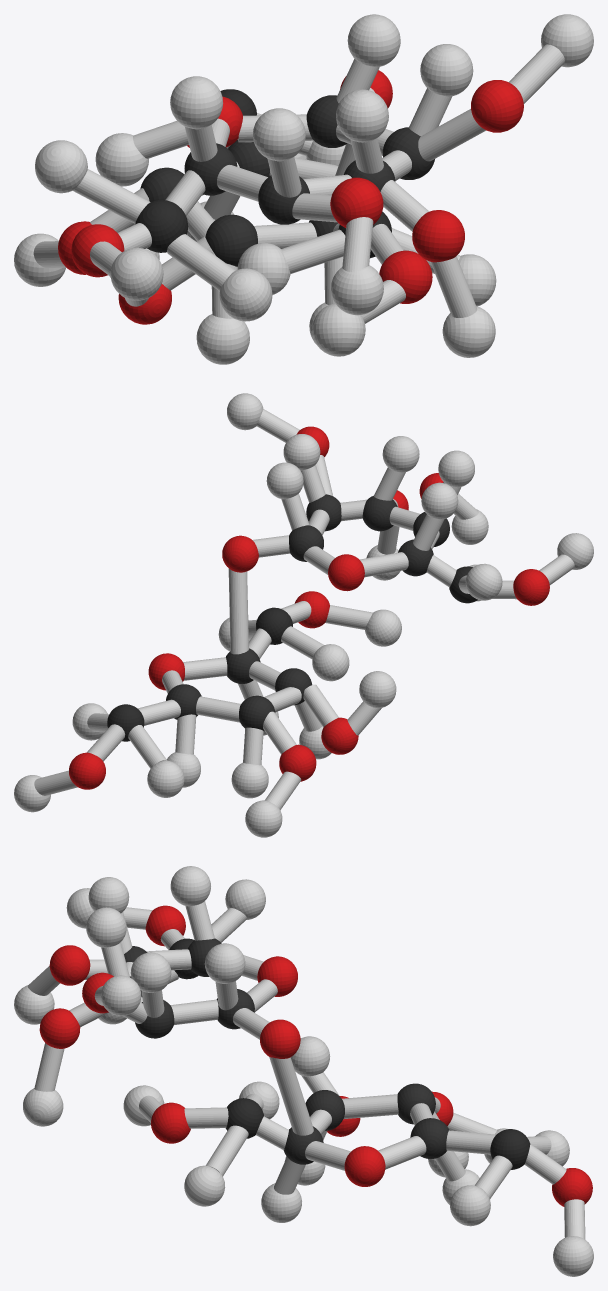
Rendered from Sacarosa.dae.
The picture shows the model from 3 angles, top to bottom: view 1: azimuth 30°, elevation 25°; view 2: azimuth 150°, elevation 25°; view 3: azimuth 270°, elevation 25°; orthographic projection. The views are drawn at different scales.
Visible parts, largest first — view 1: Sphere_036, Sphere_028, Sphere_033, Sphere_035, Sphere_026, Sphere_029, Sphere_034, Sphere_040, Sphere_031, Sphere_022, Sphere_012, Sphere_017 (+57 smaller); view 2: Cylinder_038, Sphere_002, Sphere_011, Sphere_021, Sphere_018, Sphere_003, Sphere_037, Sphere_031, Sphere_040, Sphere_032, Sphere_035, Sphere_042 (+49 smaller); view 3: Cylinder_038, Sphere_004, Sphere_008, Sphere_009, Sphere_014, Sphere_025, Sphere_040, Sphere_036, Sphere_027, Sphere_035, Sphere_042, Sphere_022 (+48 smaller).
Part boxes in pixels (x1=…): Sphere_036: x1=336, y1=89, x2=388, y2=142; Sphere_028: x1=253, y1=108, x2=305, y2=161; Sphere_033: x1=110, y1=247, x2=163, y2=300; Sphere_035: x1=170, y1=76, x2=223, y2=129; Sphere_026: x1=471, y1=80, x2=523, y2=132; Sphere_029: x1=420, y1=44, x2=473, y2=96; Sphere_034: x1=219, y1=268, x2=272, y2=321; Sphere_040: x1=347, y1=14, x2=400, y2=66; Sphere_031: x1=35, y1=140, x2=87, y2=193; Sphere_022: x1=412, y1=210, x2=464, y2=262; Sphere_012: x1=312, y1=303, x2=365, y2=356; Sphere_017: x1=196, y1=314, x2=249, y2=364; Cylinder_038: x1=228, y1=568, x2=248, y2=654; Sphere_002: x1=147, y1=760, x2=184, y2=797; Sphere_011: x1=312, y1=644, x2=349, y2=681; Sphere_021: x1=359, y1=671, x2=396, y2=708; Sphere_018: x1=245, y1=800, x2=282, y2=837; Sphere_003: x1=69, y1=752, x2=105, y2=789; Sphere_037: x1=328, y1=554, x2=364, y2=591; Sphere_031: x1=465, y1=563, x2=502, y2=600; Sphere_040: x1=266, y1=462, x2=303, y2=499; Sphere_032: x1=513, y1=569, x2=549, y2=605; Sphere_035: x1=421, y1=482, x2=458, y2=519; Sphere_042: x1=222, y1=535, x2=258, y2=572; Cylinder_038: x1=269, y1=1057, x2=313, y2=1135; Sphere_004: x1=553, y1=1236, x2=593, y2=1276; Sphere_008: x1=344, y1=1146, x2=385, y2=1186; Sphere_009: x1=450, y1=1185, x2=490, y2=1226; Sphere_014: x1=184, y1=1165, x2=225, y2=1206; Sphere_025: x1=49, y1=945, x2=90, y2=985; Sphere_040: x1=204, y1=943, x2=245, y2=983; Sphere_036: x1=86, y1=907, x2=126, y2=947; Sphere_027: x1=100, y1=975, x2=141, y2=1015; Sphere_035: x1=170, y1=866, x2=210, y2=906; Sphere_042: x1=260, y1=1019, x2=300, y2=1058; Sphere_022: x1=39, y1=1008, x2=80, y2=1048.
Bounding box in the file's own units: 7.12 × 9.17 × 5.12.
